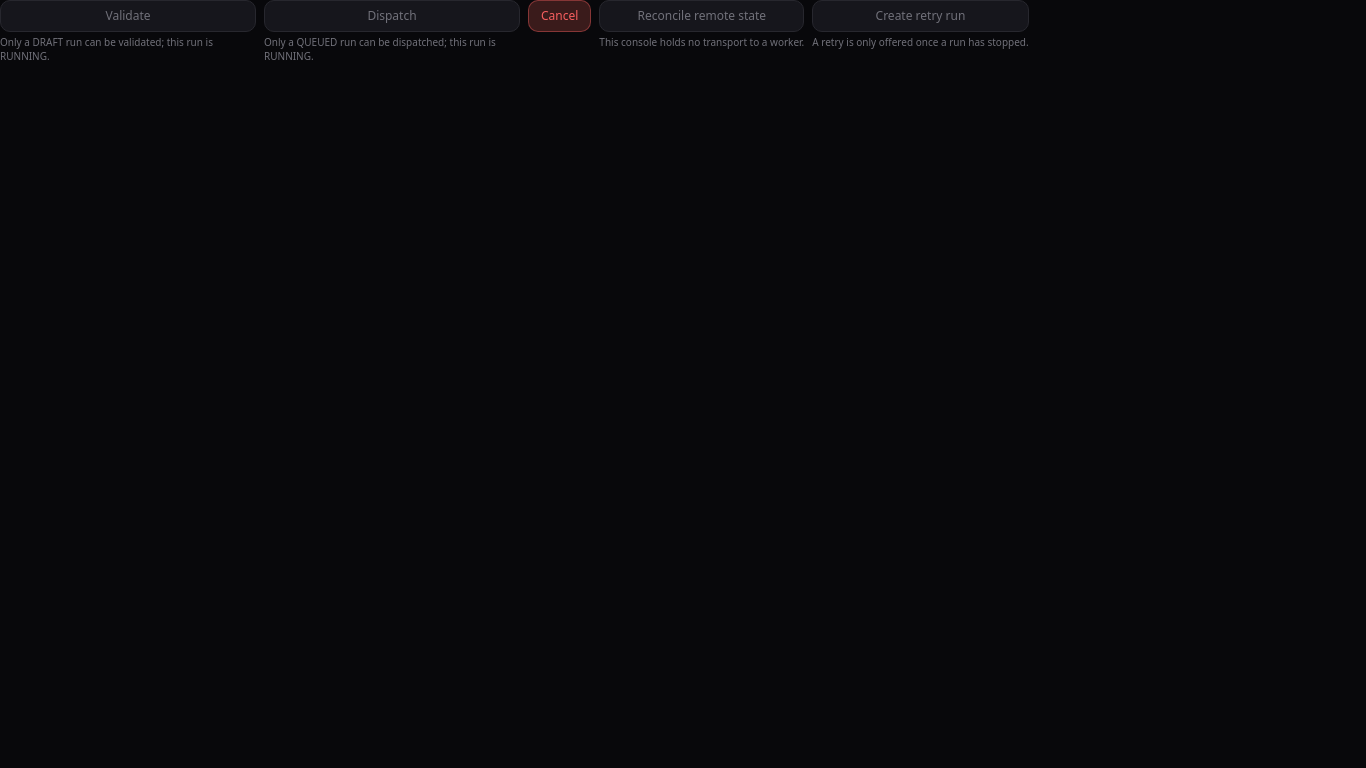
Scenario: run actions › says what an action will do rather than asking whether you are sure
The width and height of the screenshot is (1366, 768).
What coordinates should you click on to do the following:
click the button "Cancel"
I would click on:
 (560, 16)
Its box is [528,0,591,32].
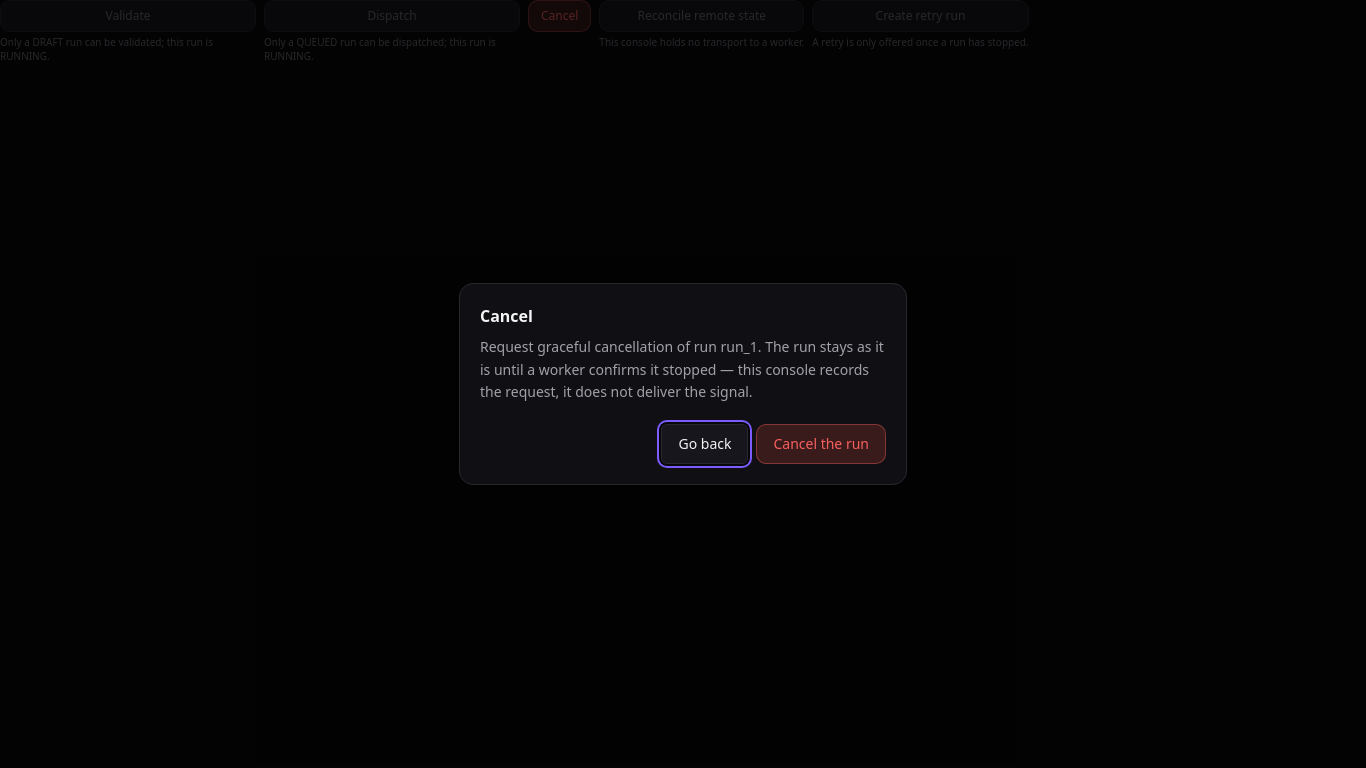
Check: the text "it does not deliver the signal" is shown, box [480,337,884,401]
